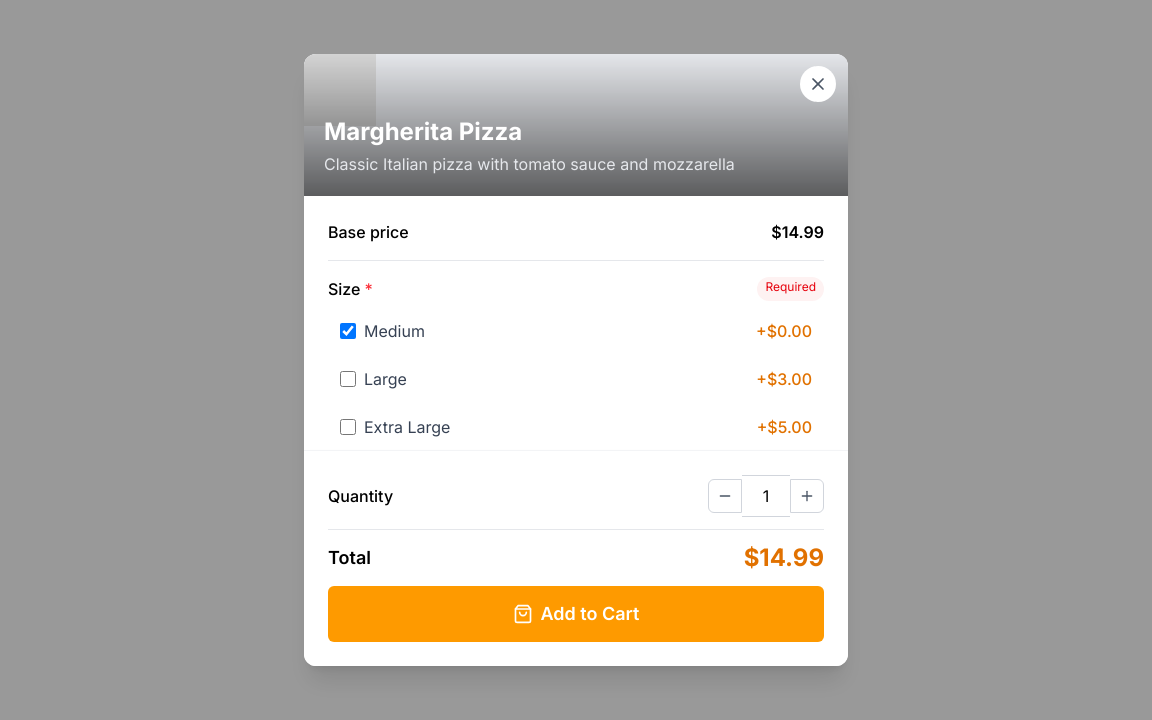
ProductAddonsModal Component › allows changing quantity
Check: the heading "Margherita Pizza" is shown, box top-left (324, 117), bottom-right (522, 146)
Check: the button with class "lucide-minus" is shown, box top-left (708, 479), bottom-right (742, 513)
# Increase quantity
Click the button with class "lucide-plus": click(807, 496) top-left (790, 479), bottom-right (824, 513)
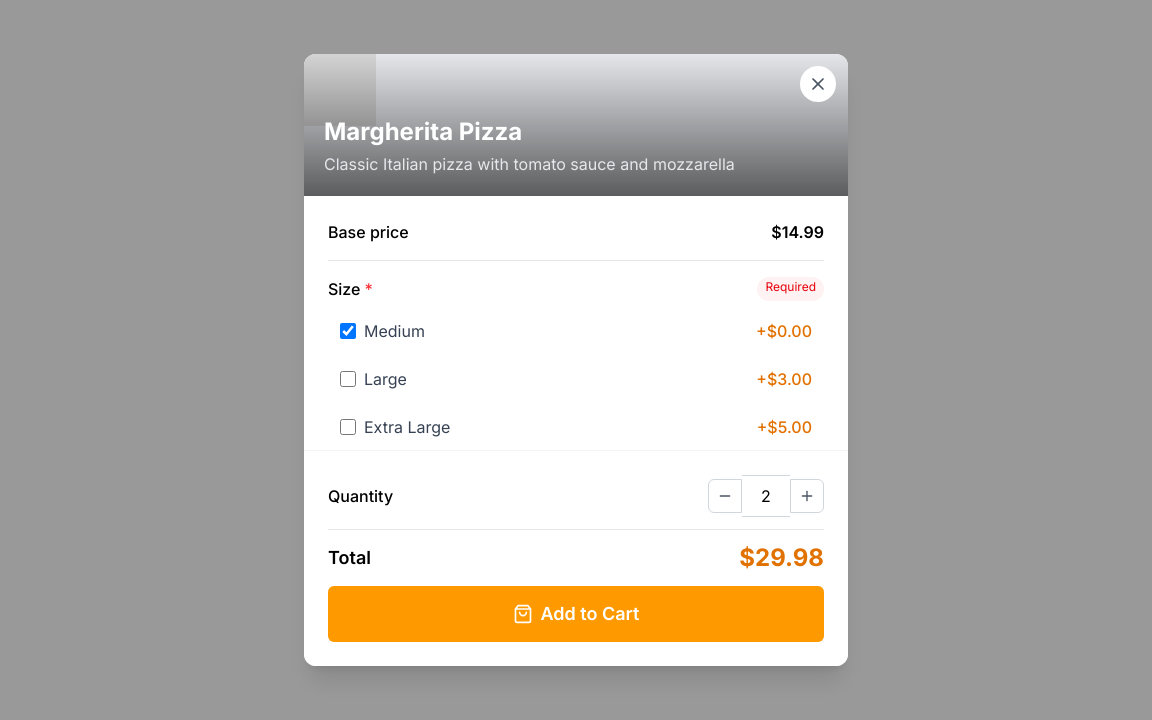
Check: the text "2" is shown, box top-left (742, 475), bottom-right (790, 517)
# Increase again
Click the button with class "lucide-plus": click(807, 496) top-left (790, 479), bottom-right (824, 513)
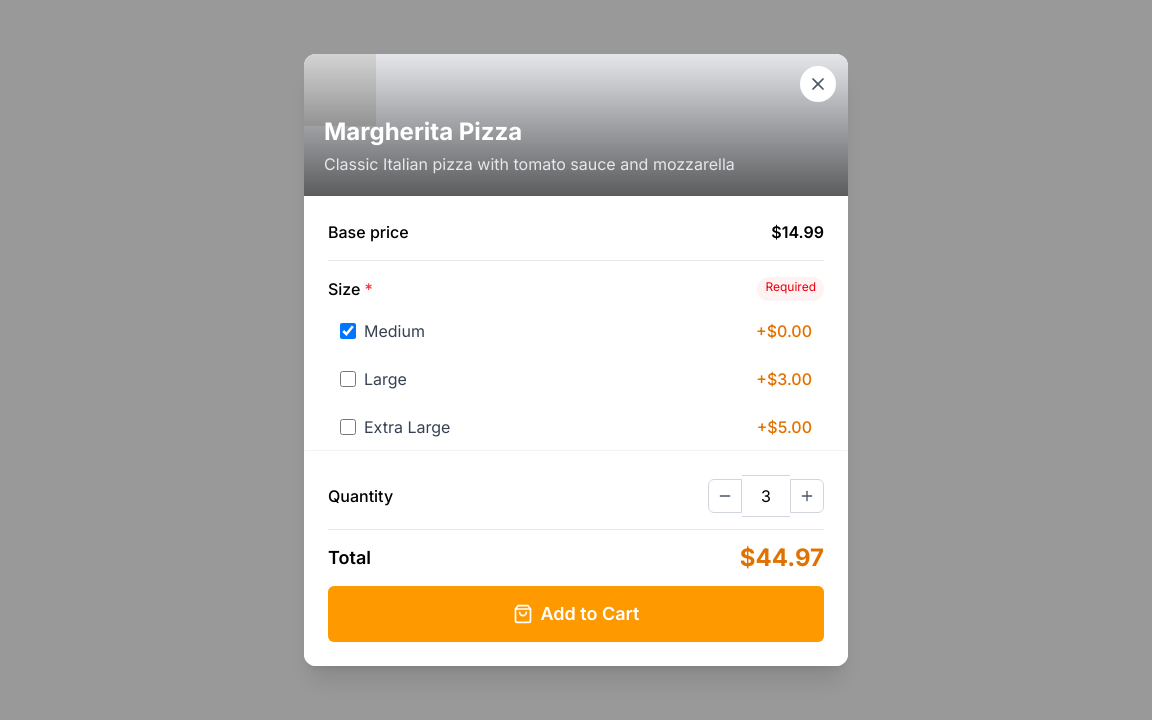
Check: the text "3" is shown, box top-left (742, 475), bottom-right (790, 517)
# Decrease quantity
Click the button with class "lucide-minus": click(725, 496) top-left (708, 479), bottom-right (742, 513)
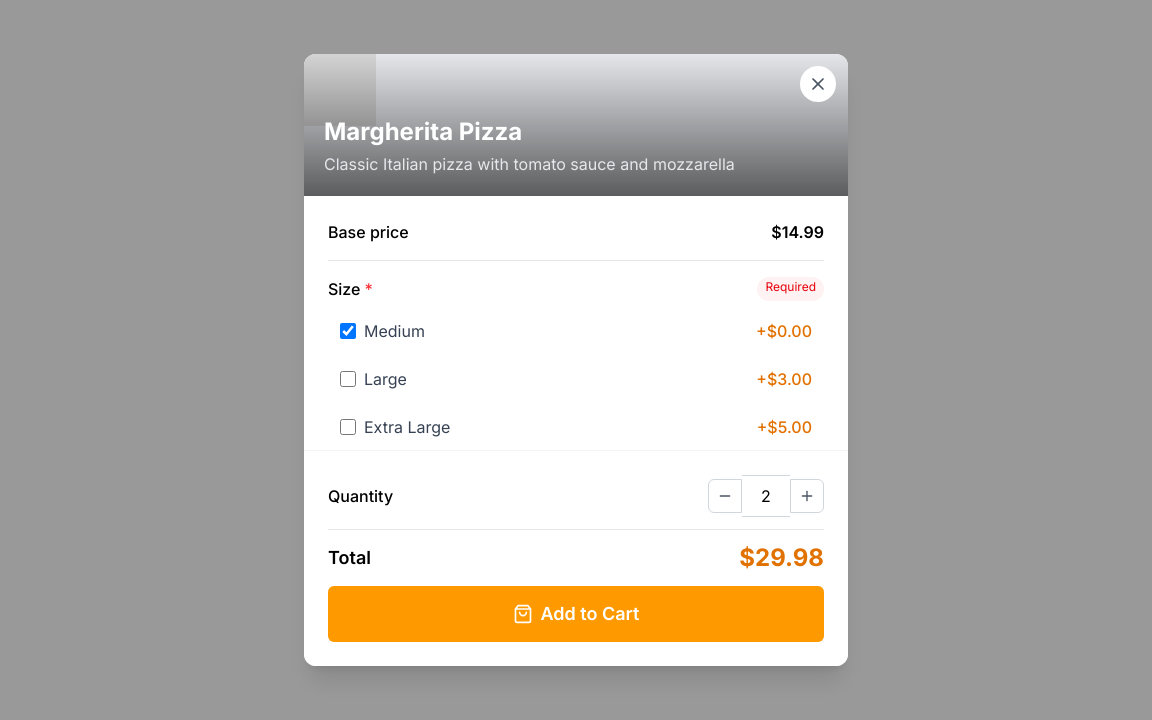
Check: the text "2" is shown, box top-left (742, 475), bottom-right (790, 517)
